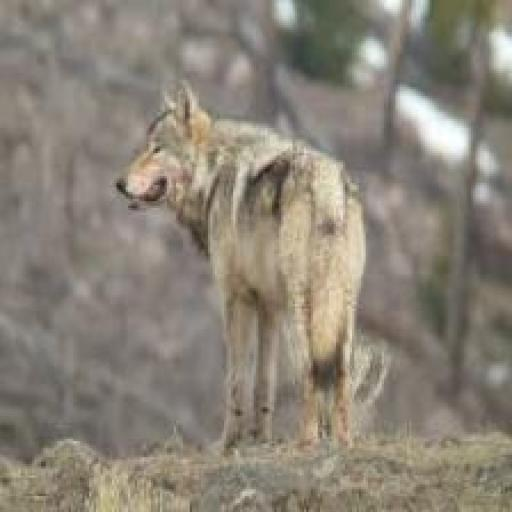wolf: (112, 71, 373, 474)
